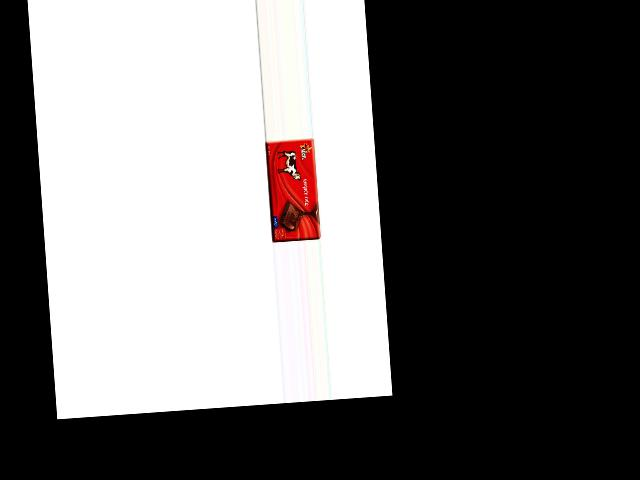chocolate: (265, 137, 321, 243)
